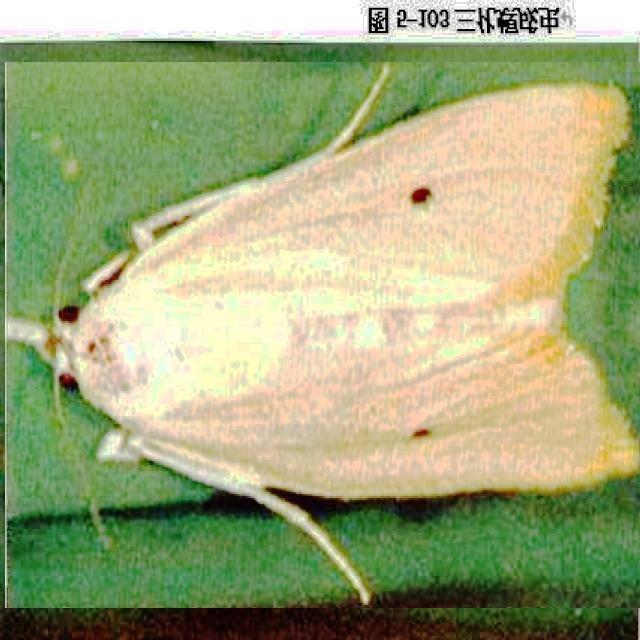stem-borer: (5, 62, 640, 608)
